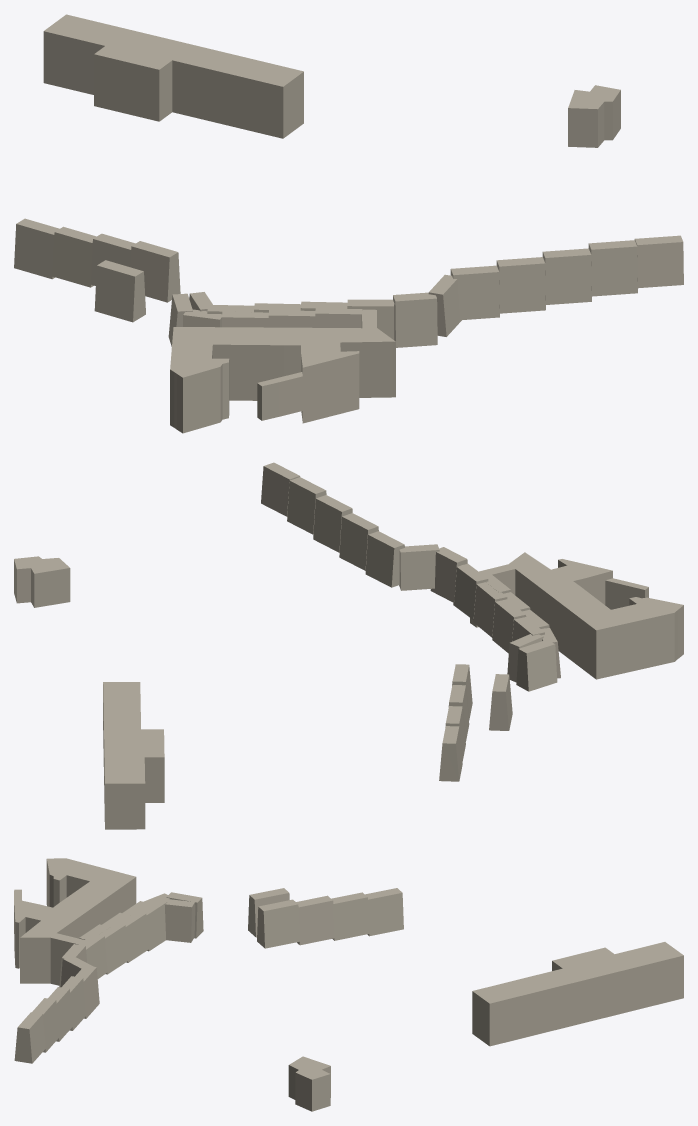
The model's file is bormla_62_28_far.glb.
The picture shows the model from 3 angles, top to bottom: view 1: azimuth 30°, elevation 25°; view 2: azimuth 150°, elevation 25°; view 3: azimuth 270°, elevation 25°; orthographic projection. The views are drawn at different scales.
Parts seen in each view (by area): view 1: geometry_0; view 2: geometry_0; view 3: geometry_0.
Part boxes in pixels (left/top/right/bottom): geometry_0: left=14, top=14, right=683, bottom=433; geometry_0: left=14, top=462, right=683, bottom=829; geometry_0: left=14, top=858, right=683, bottom=1111.
Size of the model in its own units: 180 by 24.93 by 211.
